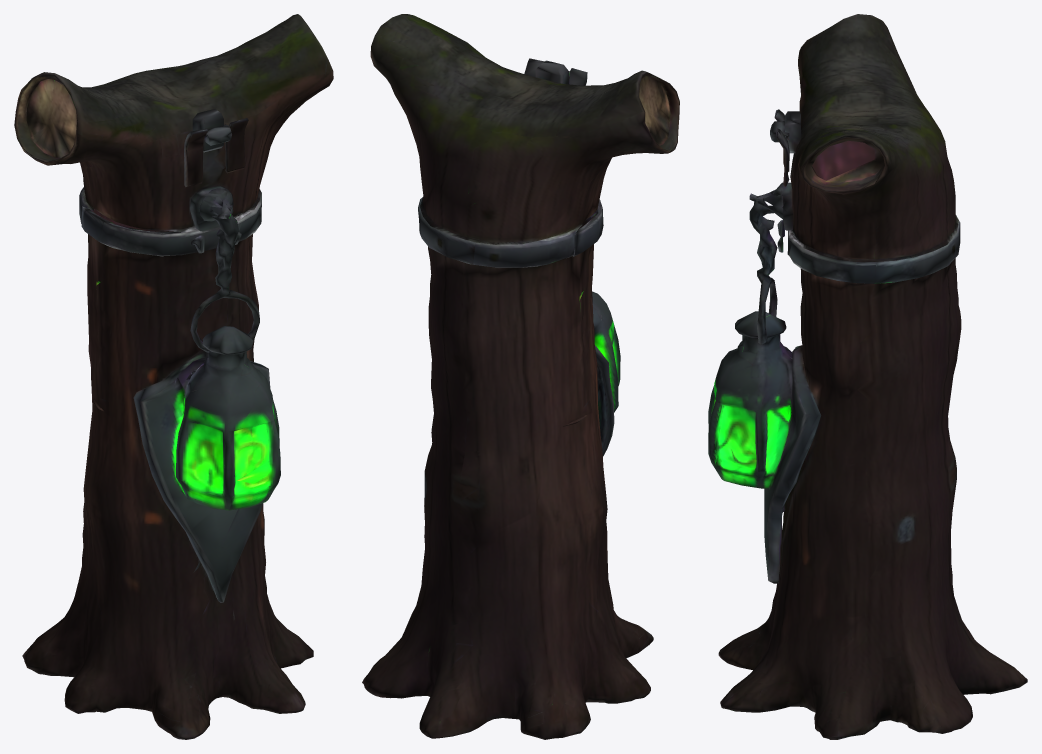
The model's file is briarhold-ward-lantern-512.glb.
The picture shows the model from 3 angles, left to right: view 1: azimuth 30°, elevation 25°; view 2: azimuth 150°, elevation 25°; view 3: azimuth 270°, elevation 25°; orthographic projection. The views are drawn at different scales.
Visible parts, largest first — view 1: briarhold-ward-lantern; view 2: briarhold-ward-lantern; view 3: briarhold-ward-lantern.
Boxes of the visible parts, x1,y1,x2,y2 form: briarhold-ward-lantern: (14, 14, 333, 739); briarhold-ward-lantern: (362, 14, 679, 739); briarhold-ward-lantern: (708, 14, 1027, 739).
Size of the model in its own units: 1.8 by 3.8 by 1.8.
1 material, 1 textured.
